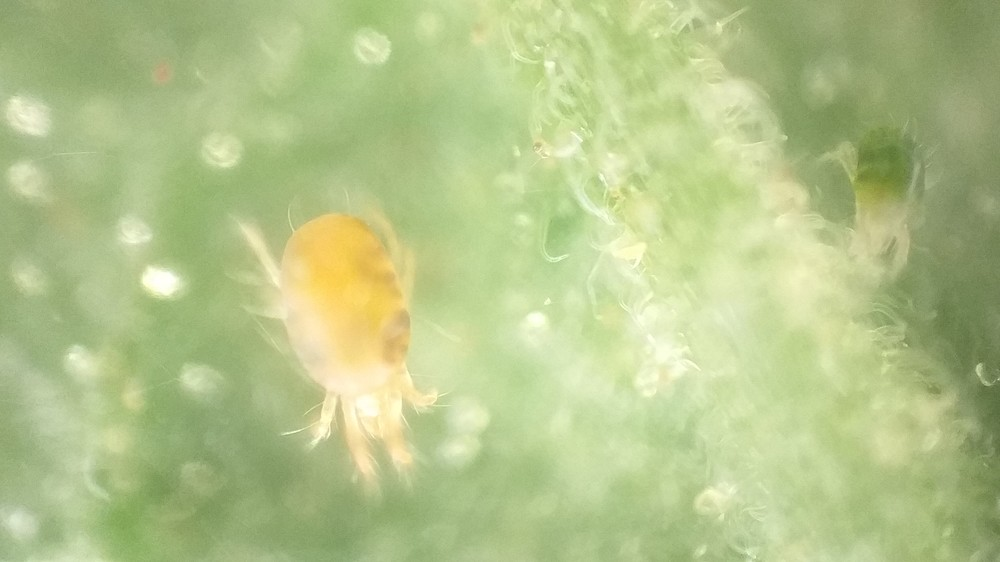Aracnido Rojo: (219, 180, 470, 489), (815, 103, 946, 289)
